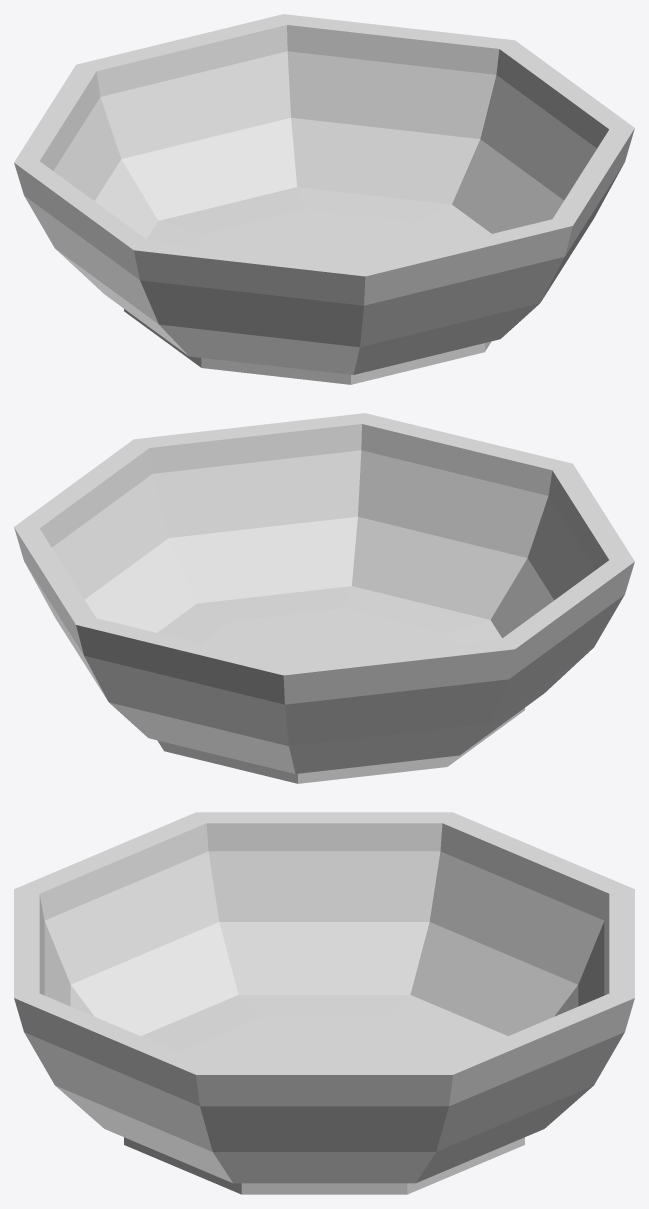
The model's file is Plate6_C1.fbx.
3 views of the same model, one above another, from view 1: azimuth 30°, elevation 25°; view 2: azimuth 150°, elevation 25°; view 3: azimuth 270°, elevation 25° (orthographic). The views are drawn at different scales.
Visible parts, largest first — view 1: Plate6_C1; view 2: Plate6_C1; view 3: Plate6_C1.
Boxes of the visible parts, x1,y1,x2,y2 form: Plate6_C1: (14, 14, 634, 384); Plate6_C1: (14, 413, 634, 783); Plate6_C1: (14, 812, 634, 1194).
Size of the model in its own units: 33.84 by 10 by 33.84.
